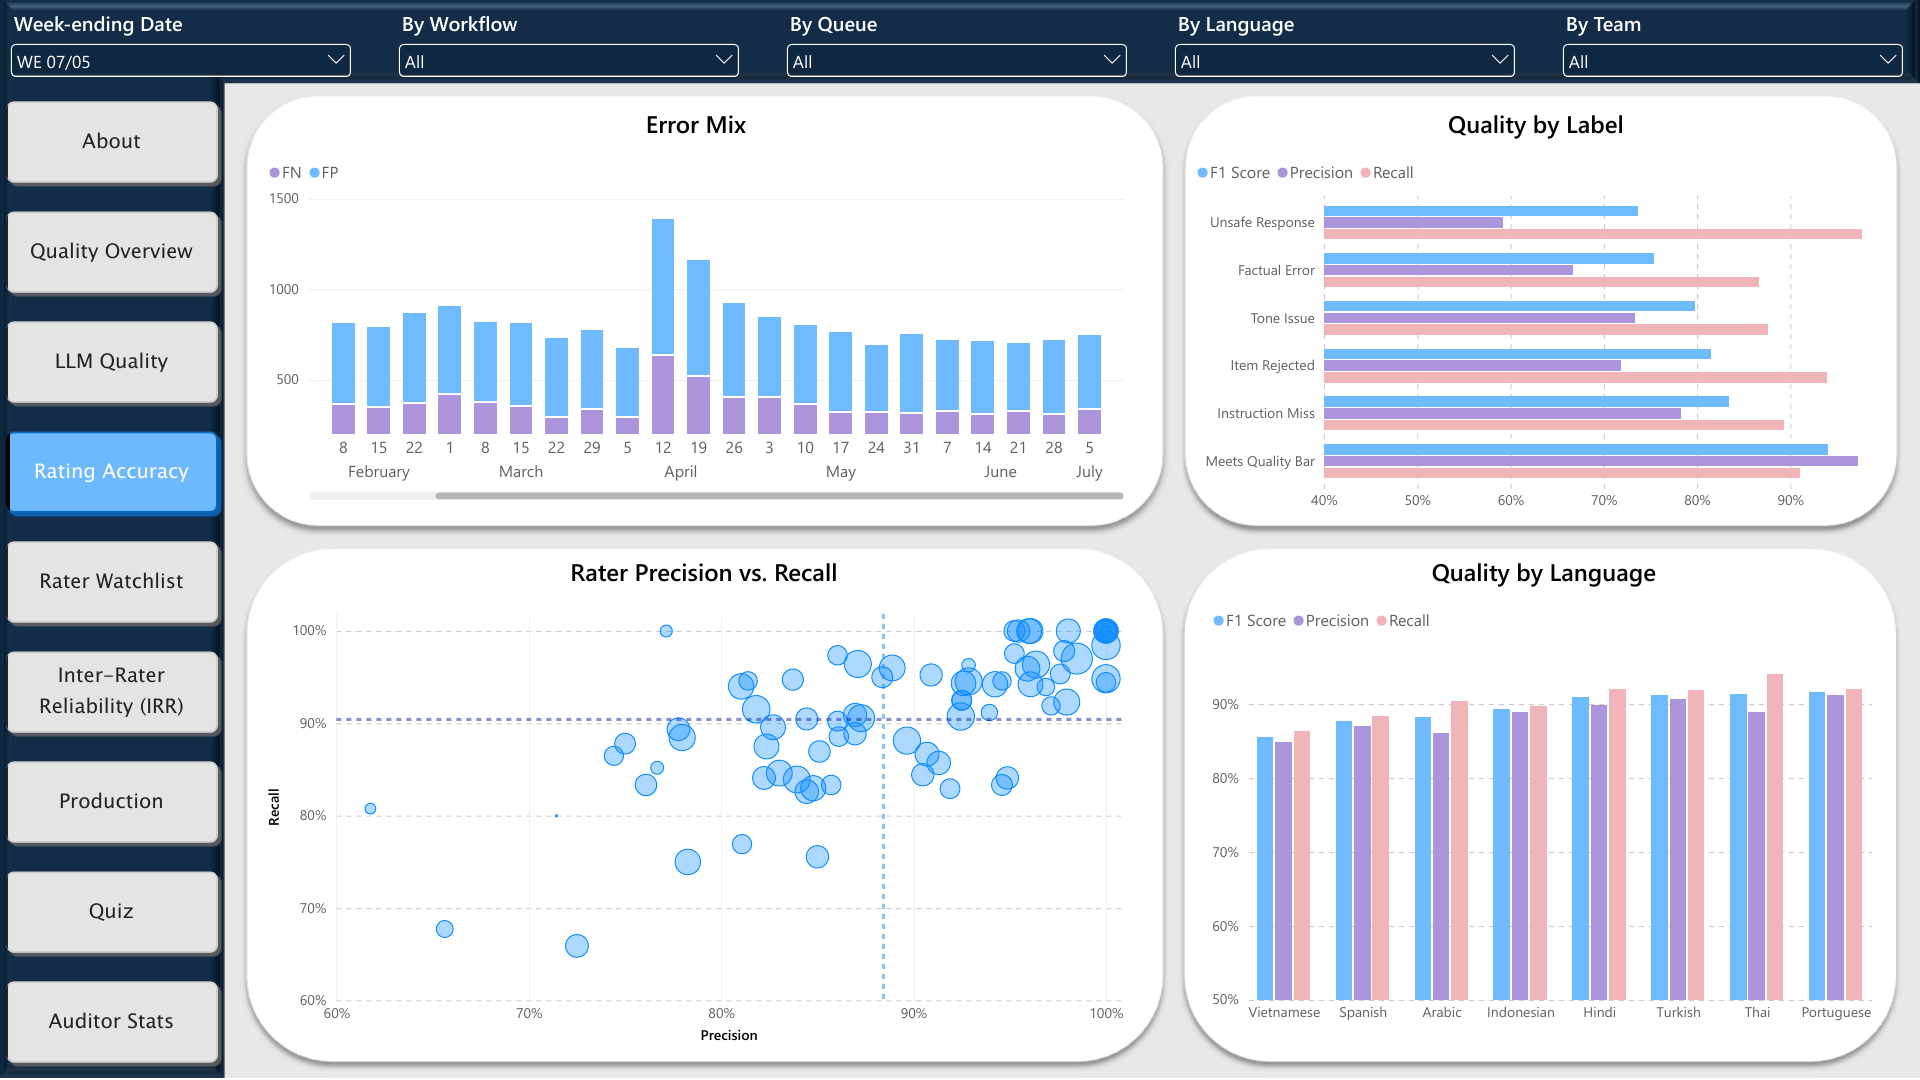

The dashboard page shown, as its layout file describes it:
{"tool":"powerbi","page":{"name":"Rating Accuracy","canvas":[1920,1080],"ordinal":3},"visuals":[{"type":"slicer","title":"By WE","fields":{"Values":["Dim_Date.week_label"]},"box":[6,9.8,350,80],"z":0,"group":"g1"},{"type":"columnChart","title":"Error Mix","fields":{"Category":["Dim_Date.week_end.Variation.Date Hierarchy.Month","Dim_Date.week_end.Variation.Date Hierarchy.Day"],"Y":["_Measures.FN","_Measures.FP"]},"box":[256,96,880,416],"z":0},{"type":"slicer","fields":{"Values":["Dim_Rater.team"]},"box":[1558,9.8,350,80],"z":1000,"group":"g1"},{"type":"clusteredBarChart","title":"Quality by Label","fields":{"Category":["Dim_Label.label_display"],"Y":["_Measures.F1 Score","_Measures.Precision","_Measures.Recall"]},"box":[1184,96,704,432],"z":1000},{"type":"slicer","fields":{"Values":["Dim_Rater.language"]},"box":[1170,9.8,350,80],"z":2000,"group":"g1"},{"type":"scatterChart","title":"Rater Precision vs. Recall","fields":{"Category":["Dim_Rater.rater_name"],"Size":["_Measures.Audited Decisions"],"X":["_Measures.Precision"],"Y":["_Measures.Recall"]},"box":[256,544,896,512],"z":2000},{"type":"slicer","fields":{"Values":["Dim_Queue.queue_id"]},"box":[782,9.8,350,80],"z":3000,"group":"g1"},{"type":"clusteredColumnChart","title":"Quality by Language","fields":{"Category":["Dim_Queue.language"],"Y":["_Measures.F1 Score","_Measures.Precision","_Measures.Recall"]},"box":[1200,544,688,496],"z":3000},{"type":"group","id":"g1","title":"Group 4","box":[0,9.8,1908,1062.2],"z":4000},{"type":"slicer","fields":{"Values":["Dim_Queue.workflow"]},"box":[394,9.8,350,80],"z":4000,"group":"g1"},{"type":"pageNavigator","box":[0,96,224,976],"z":9000,"group":"g1"}]}

Visuals, with their boxes in screenshot pixels (x1, y1, x2, y2), scaled from the page's 1920x1080 canvas onto the 1920x1080 screenshot:
"By WE" slicer: bbox=(6, 10, 356, 90)
"Error Mix" columnChart: bbox=(256, 96, 1136, 512)
slicer - Dim_Rater.team: bbox=(1558, 10, 1908, 90)
"Quality by Label" clusteredBarChart: bbox=(1184, 96, 1888, 528)
slicer - Dim_Rater.language: bbox=(1170, 10, 1520, 90)
"Rater Precision vs. Recall" scatterChart: bbox=(256, 544, 1152, 1056)
slicer - Dim_Queue.queue_id: bbox=(782, 10, 1132, 90)
"Quality by Language" clusteredColumnChart: bbox=(1200, 544, 1888, 1040)
"Group 4" group: bbox=(0, 10, 1908, 1072)
slicer - Dim_Queue.workflow: bbox=(394, 10, 744, 90)
pageNavigator: bbox=(0, 96, 224, 1072)
